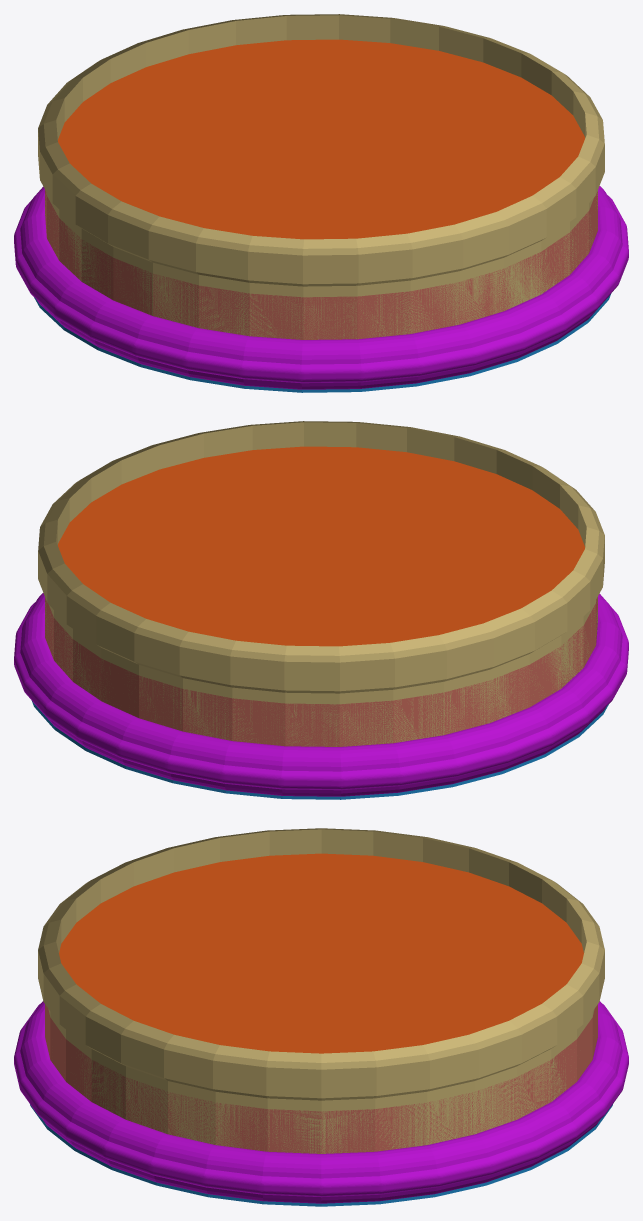
Rendered from Plate.fbx.
The picture shows the model from 3 angles, top to bottom: view 1: azimuth 30°, elevation 25°; view 2: azimuth 150°, elevation 25°; view 3: azimuth 270°, elevation 25°; orthographic projection.
Parts seen in each view (by area): view 1: saksi, Plate.001, HashiOneNode, plate; view 2: saksi, Plate.001, HashiOneNode, plate; view 3: saksi, Plate.001, HashiOneNode, plate.
Boxes of the visible parts, x1=… form: saksi: x1=38, y1=14, x2=604, y2=339; Plate.001: x1=14, y1=186, x2=628, y2=389; HashiOneNode: x1=45, y1=190, x2=597, y2=339; plate: x1=34, y1=293, x2=611, y2=392; saksi: x1=38, y1=421, x2=604, y2=746; Plate.001: x1=14, y1=593, x2=628, y2=796; HashiOneNode: x1=45, y1=597, x2=597, y2=746; plate: x1=31, y1=700, x2=608, y2=799; saksi: x1=38, y1=828, x2=604, y2=1153; Plate.001: x1=14, y1=1001, x2=628, y2=1203; HashiOneNode: x1=45, y1=1004, x2=597, y2=1153; plate: x1=30, y1=1104, x2=612, y2=1206.
Bounding box in the file's own units: 222 × 222 × 58.96.
